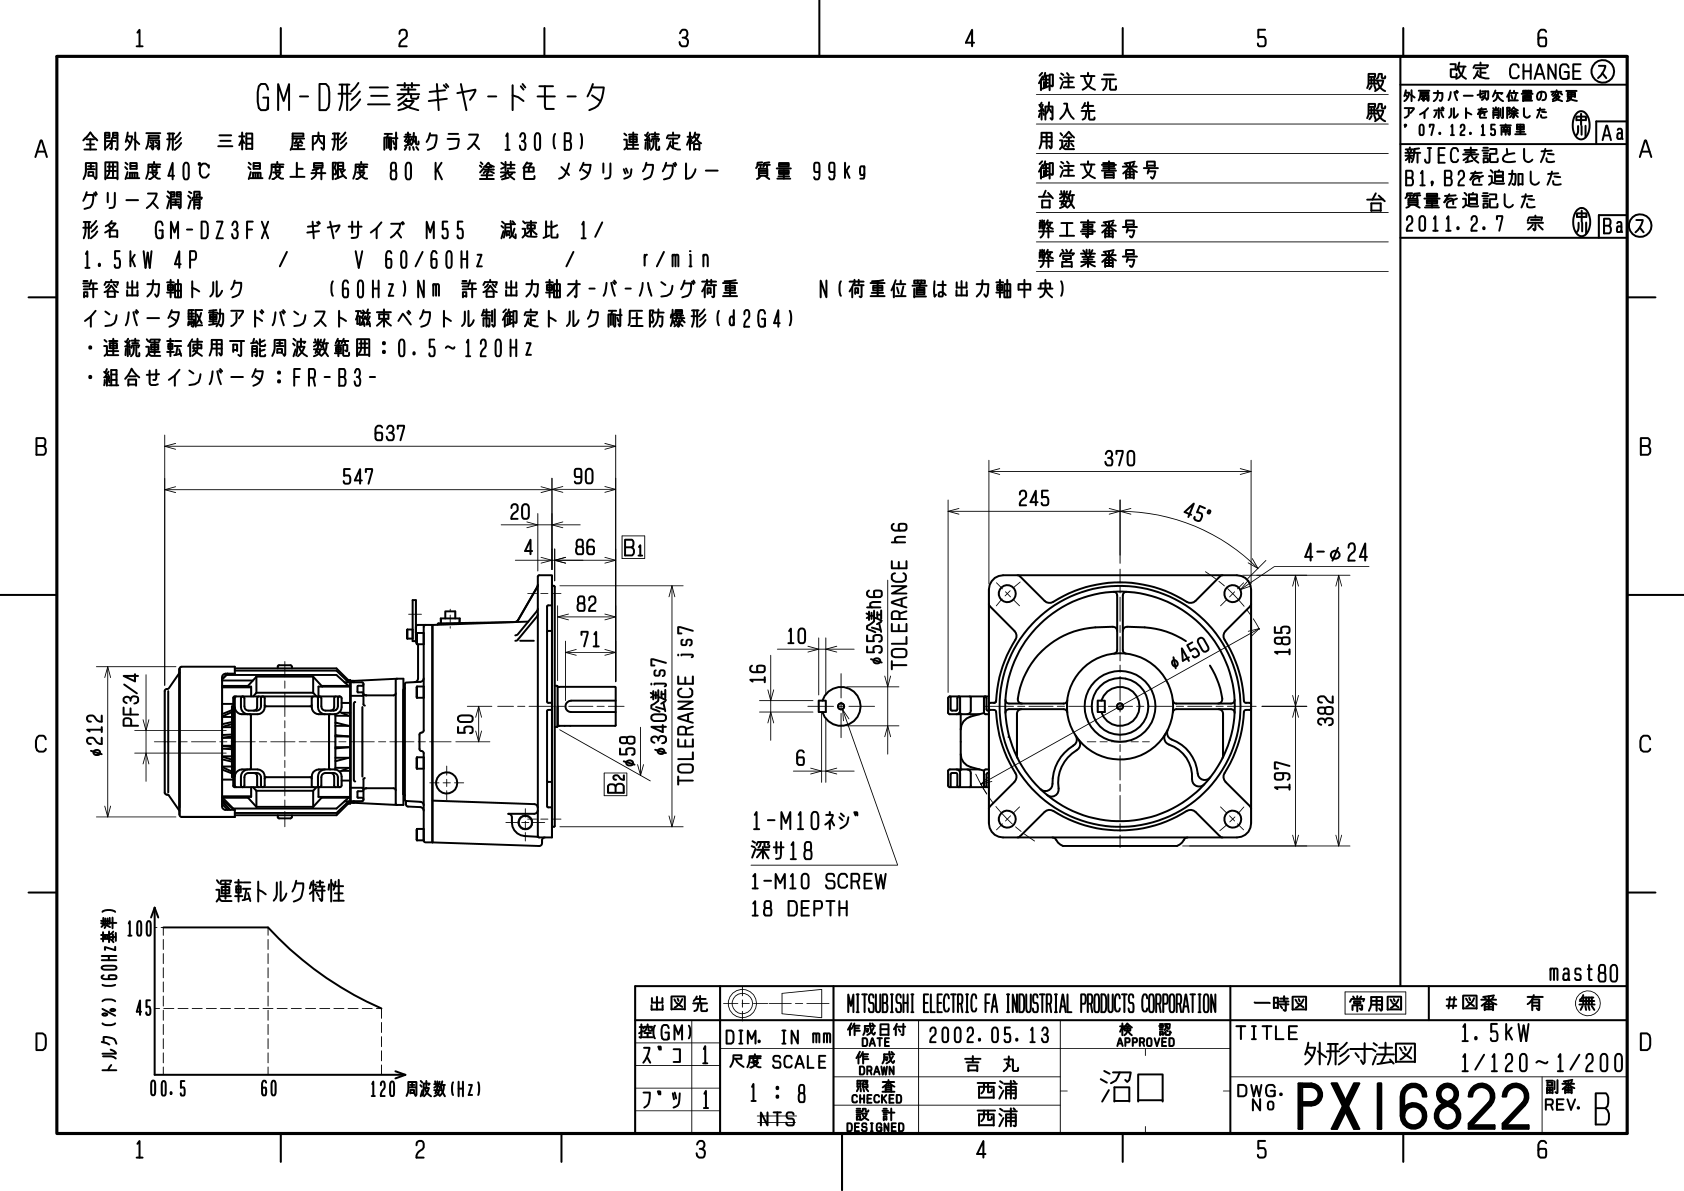GM_D_制御屋内_三相_フランジ: (1, 1, 1669, 1183)
